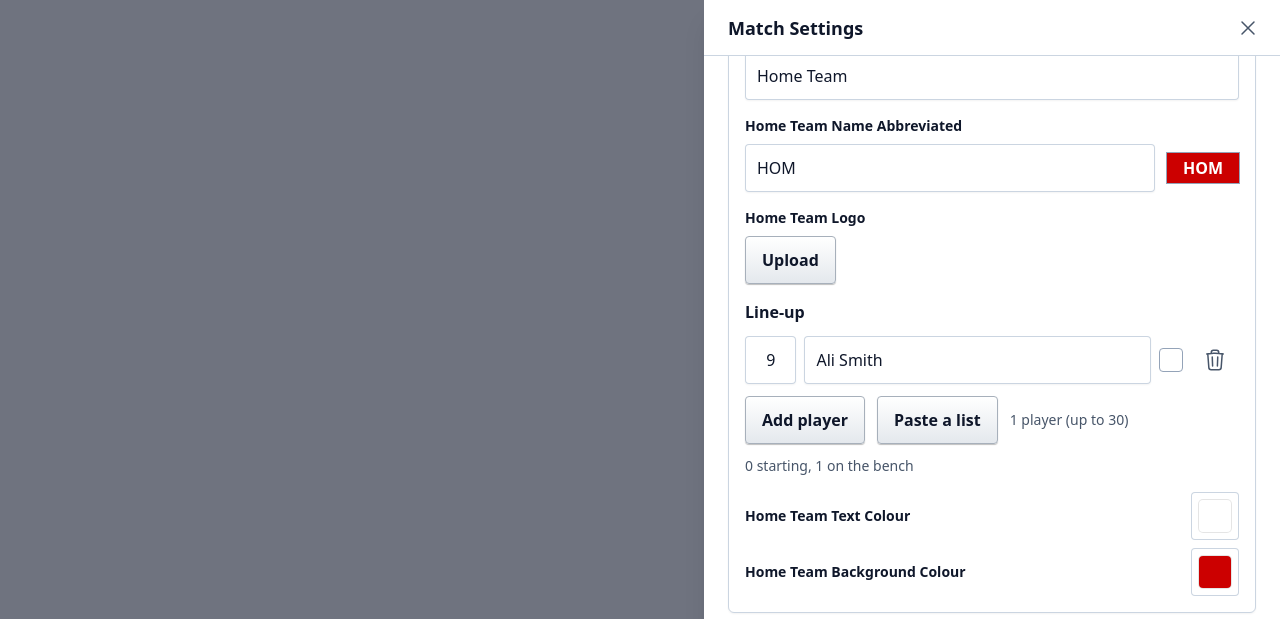
Line-up editor › keeps a bench flag through a name edit, and lets a new row start on the bench
(page scrolled)
Expected: the checkbox named "Ali Smith starts" is not checked, 1159,348 -> 1183,372
Replace the text in the field named "Home Team player 1: name" with "Ali Smyth" at point(978, 360), box 804,336 -> 1151,384
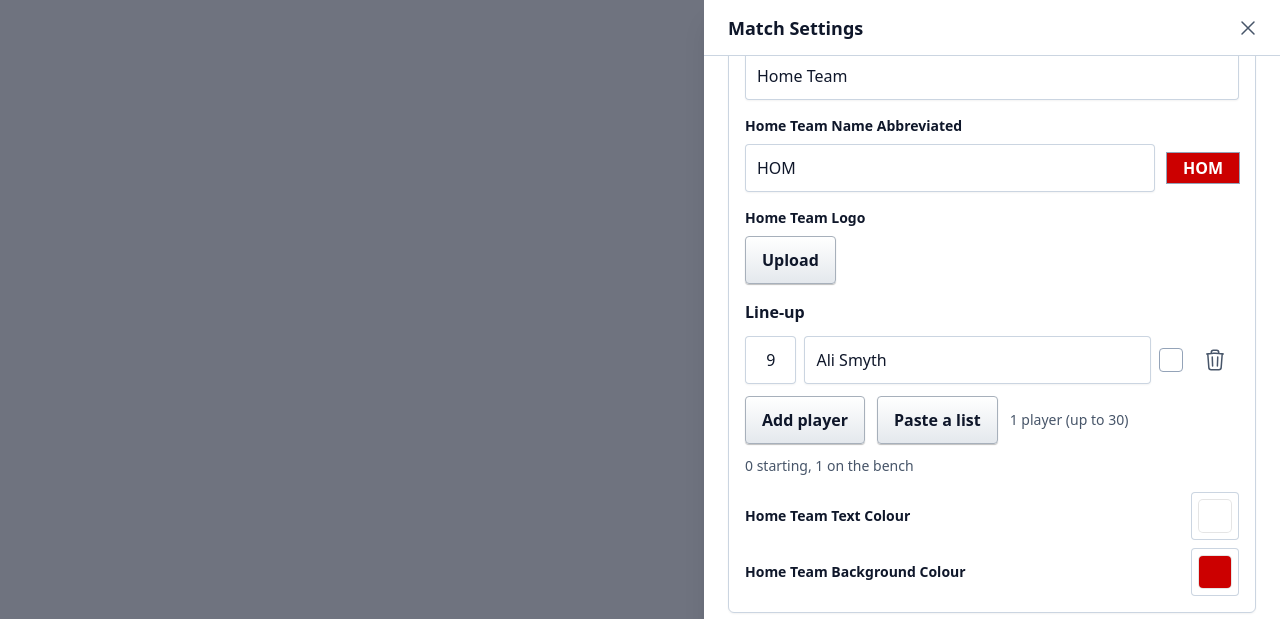
Click the button "Add player".
click(805, 420)  # box 745,396 -> 865,444
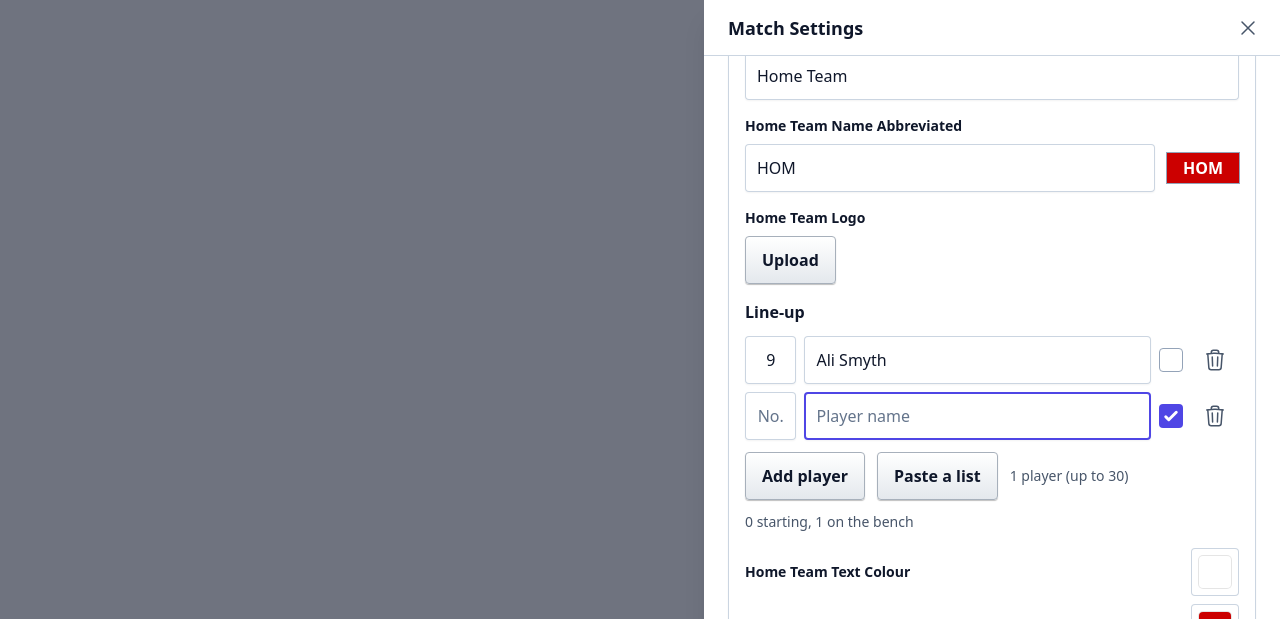
Expected: the checkbox named "Home Team player 2 starts" is checked
Click the checkbox named "Home Team player 2 starts".
click(1171, 416)  # box 1159,404 -> 1183,428
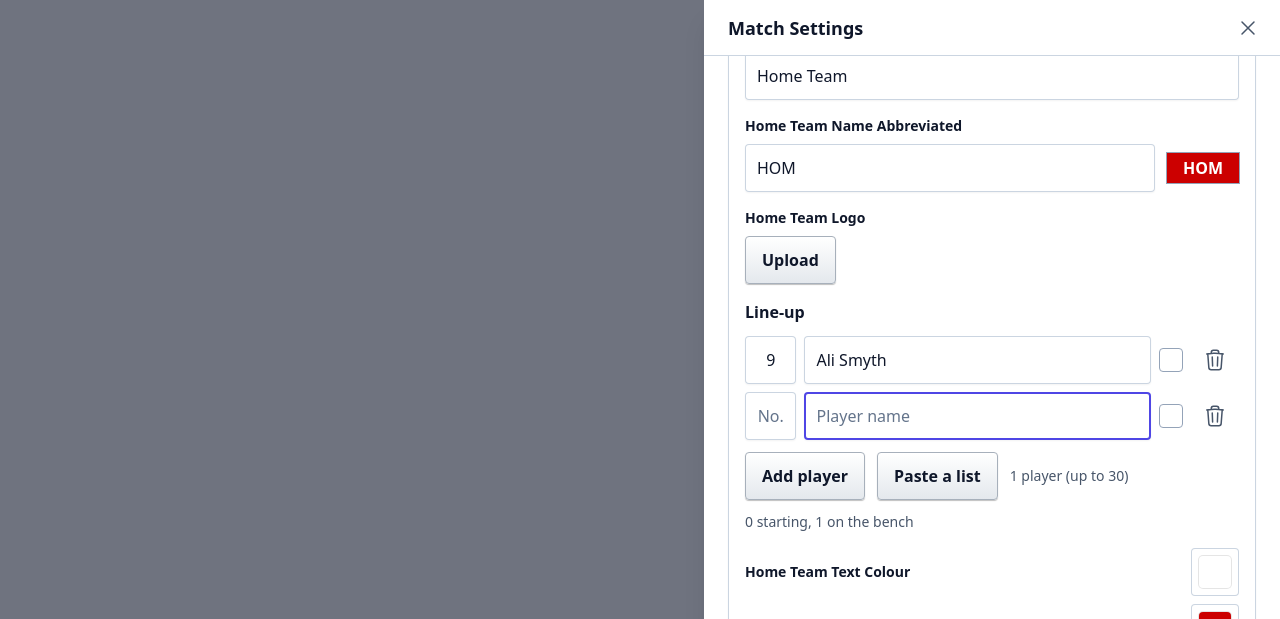
Type "Jo Bloggs" into the field named "Home Team player 2: name".
click(978, 416); type("Jo Bloggs")  # box 804,392 -> 1151,440
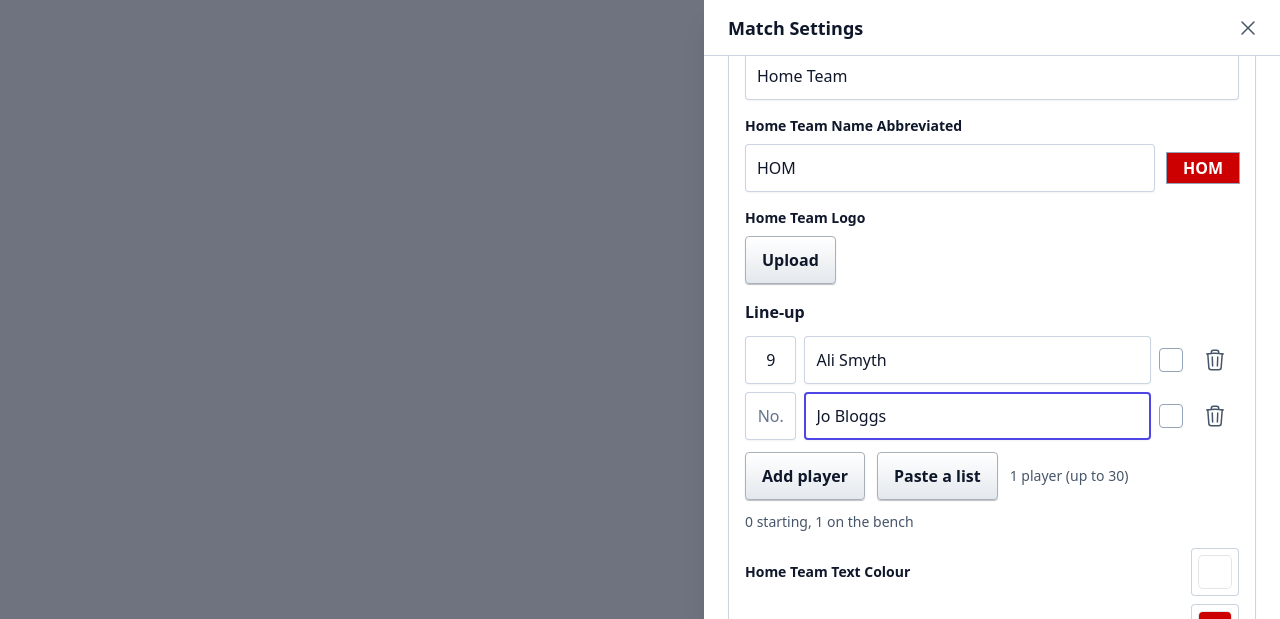
Press Enter in the field named "Home Team player 2: name", box 804,392 -> 1151,440
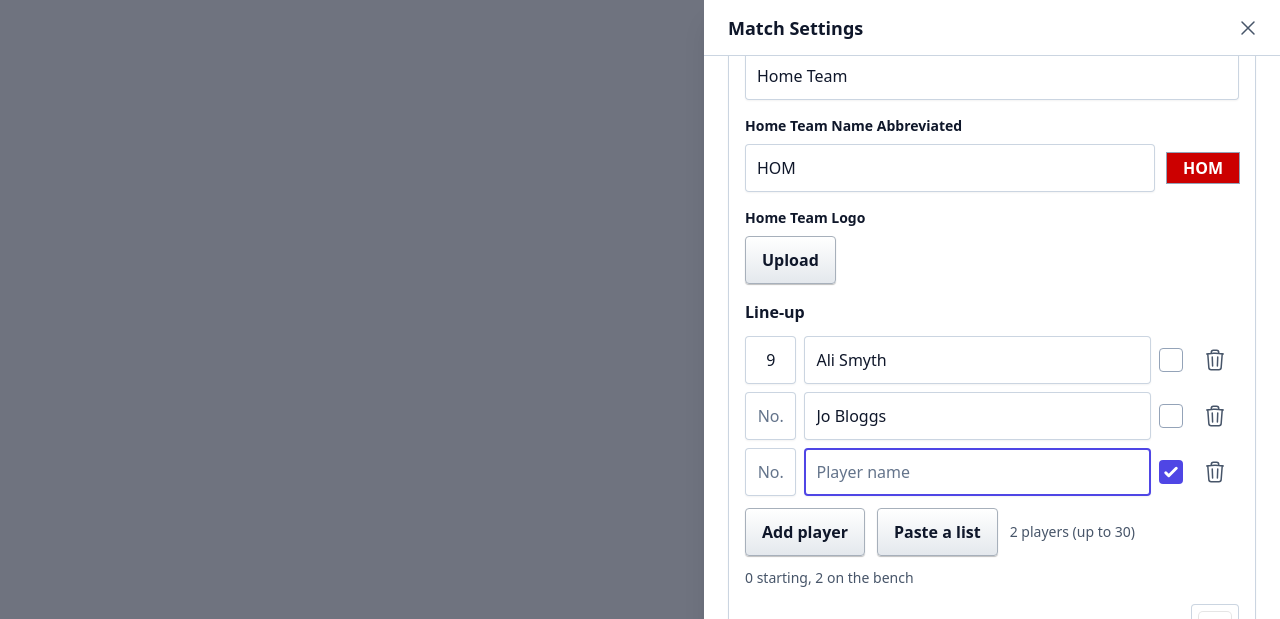
Expected: the text "0 starting, 2 on the bench" is shown, 745,568 -> 914,588
